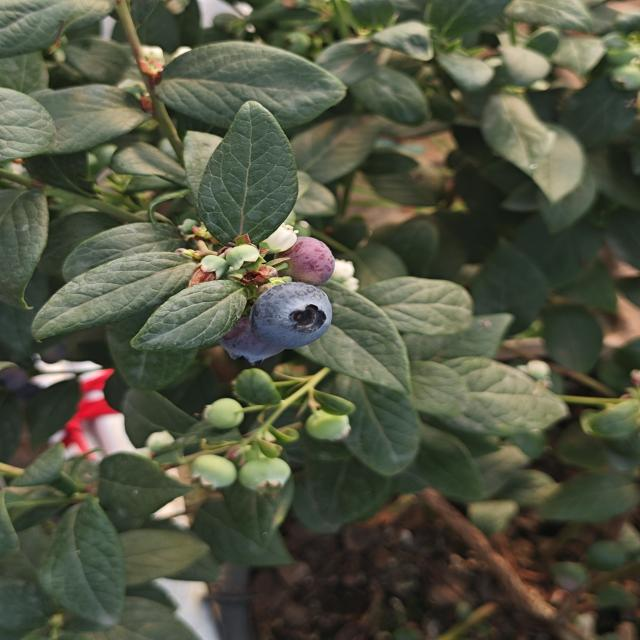ripe: (253, 278, 343, 334), (217, 306, 285, 366)
